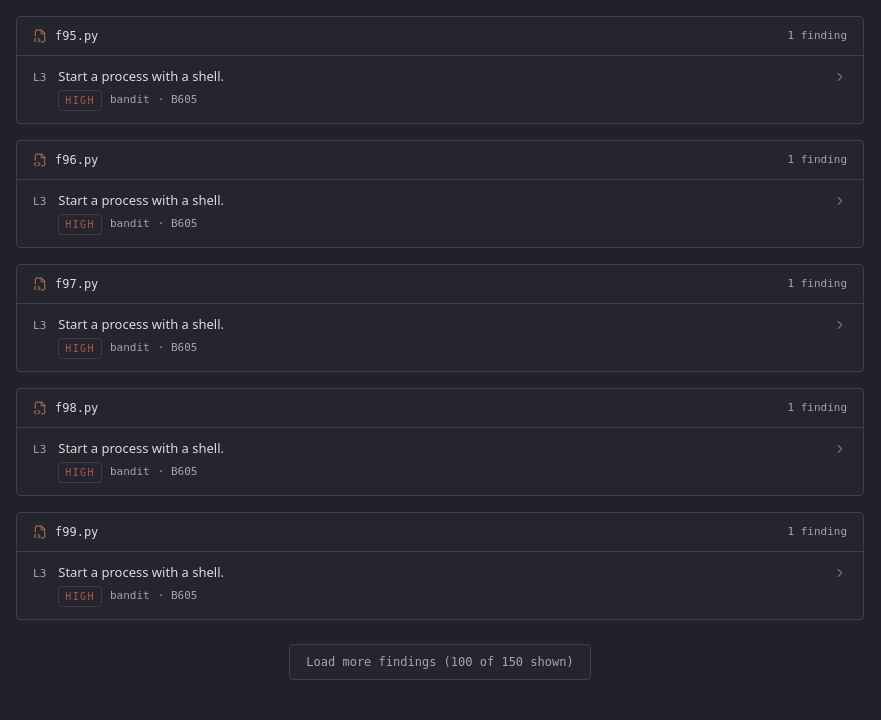
it: ScanPage › loads additional findings from the paginated endpoint when truncated
(page scrolled)
Click the button "Load more findings (100 of 150 shown)". click: click(440, 662)
box: [289,644,591,680]
(page scrolled)
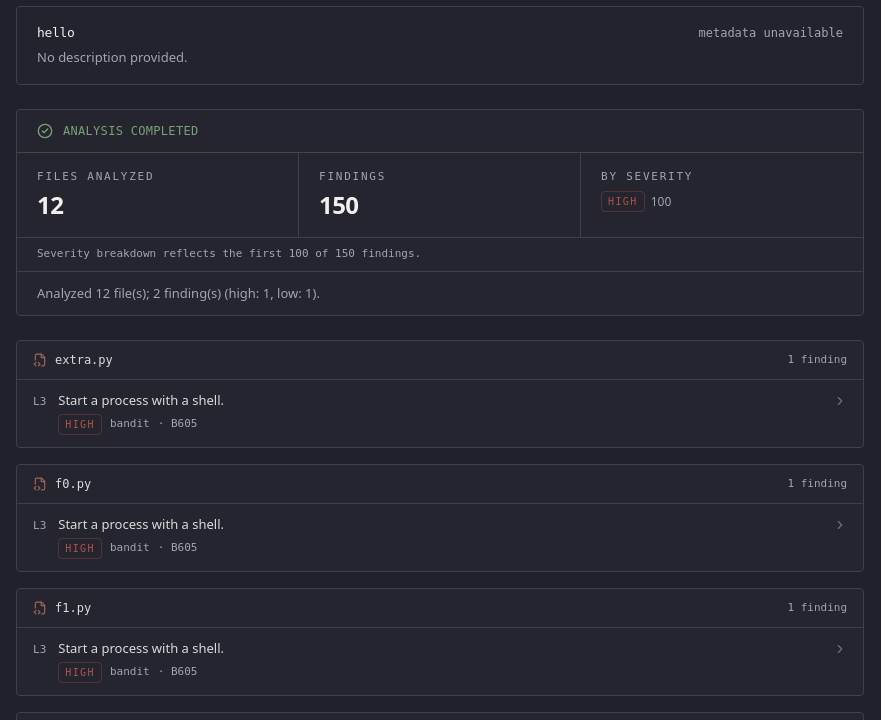
Expected: the text "extra.py" is shown, [55,351,113,369]
